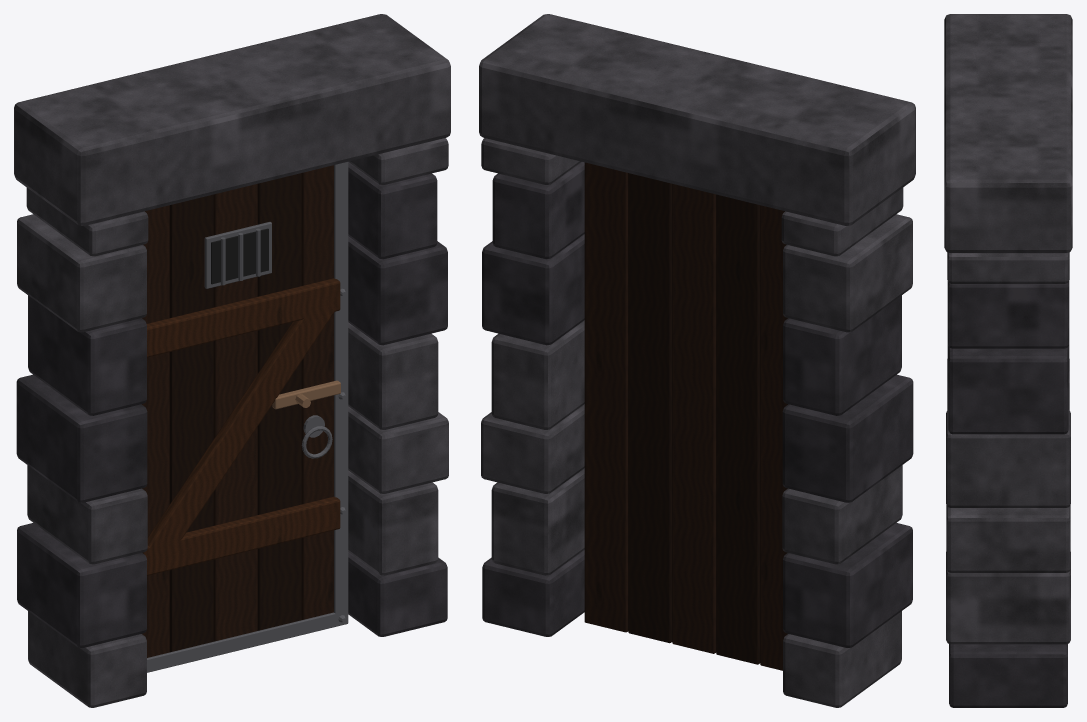
File: crypte.glb
3 renders of one model, left to right at view 1: azimuth 30°, elevation 25°; view 2: azimuth 150°, elevation 25°; view 3: azimuth 270°, elevation 25°, orthographic. The views are drawn at different scales.
Parts seen in each view (by area): view 1: crypte_cadre, crypte_battant; view 2: crypte_cadre, crypte_battant; view 3: crypte_cadre.
Part boxes in pixels (bbox=[...]): crypte_cadre: bbox=[14, 14, 450, 707]; crypte_battant: bbox=[142, 162, 348, 672]; crypte_cadre: bbox=[479, 14, 915, 707]; crypte_battant: bbox=[584, 162, 787, 670]; crypte_cadre: bbox=[944, 14, 1072, 707].
Bounding box in the file's own units: 1.7 × 2.46 × 0.54.
Materials: 8 (5 with a texture image).
